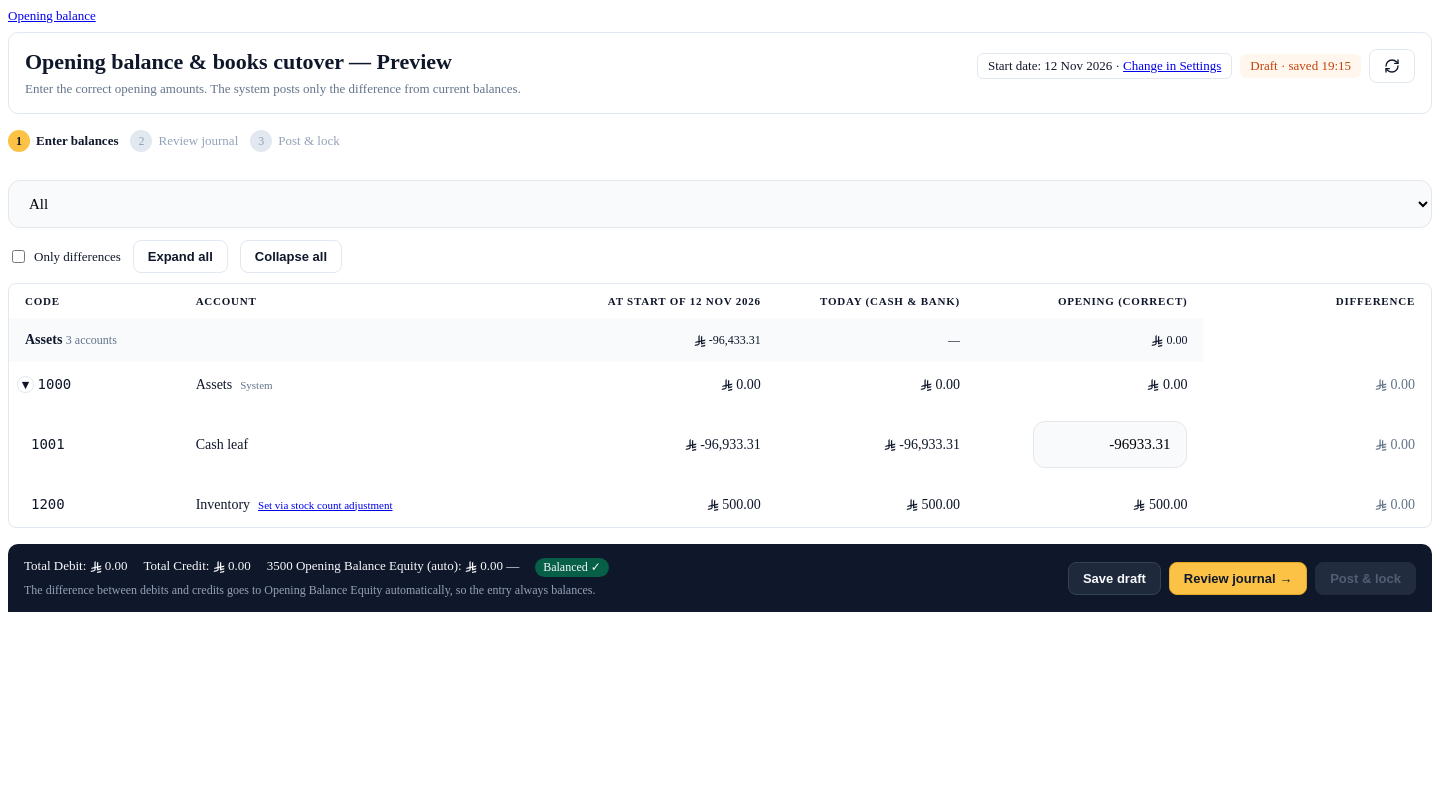
Test case: WorkshopOpeningBalancePage review popup › 3a: survives autosave — popup stays; workspace GET still 1
Expected: the button "Review journal →" is shown, [1169,562,1307,594]
Clear the field named "1001 opening". click: (1110, 444)
box: [1034,421,1188,468]
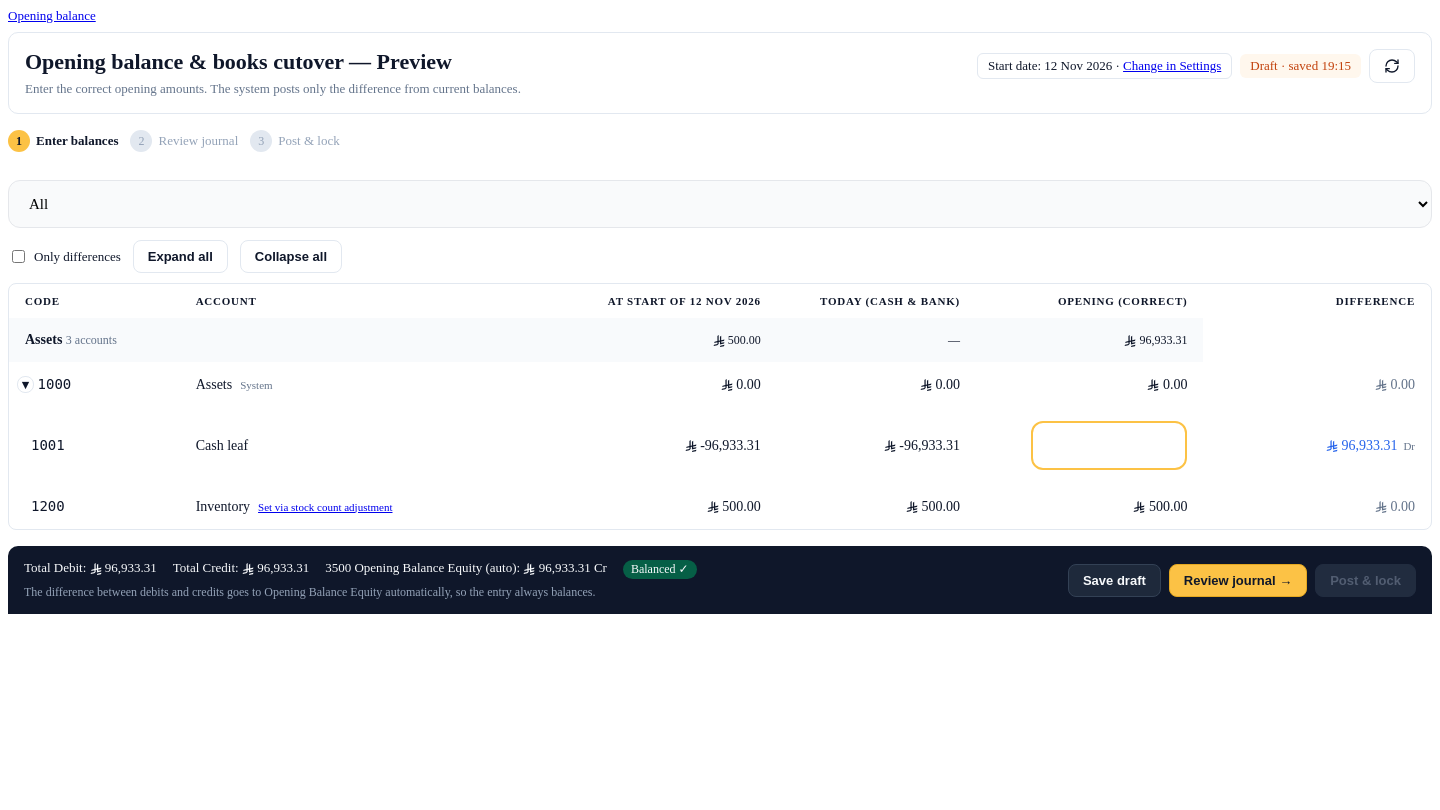
Type "-90000.00" into the field named "1001 opening". click: (1110, 446)
box: [1032,421,1188,470]
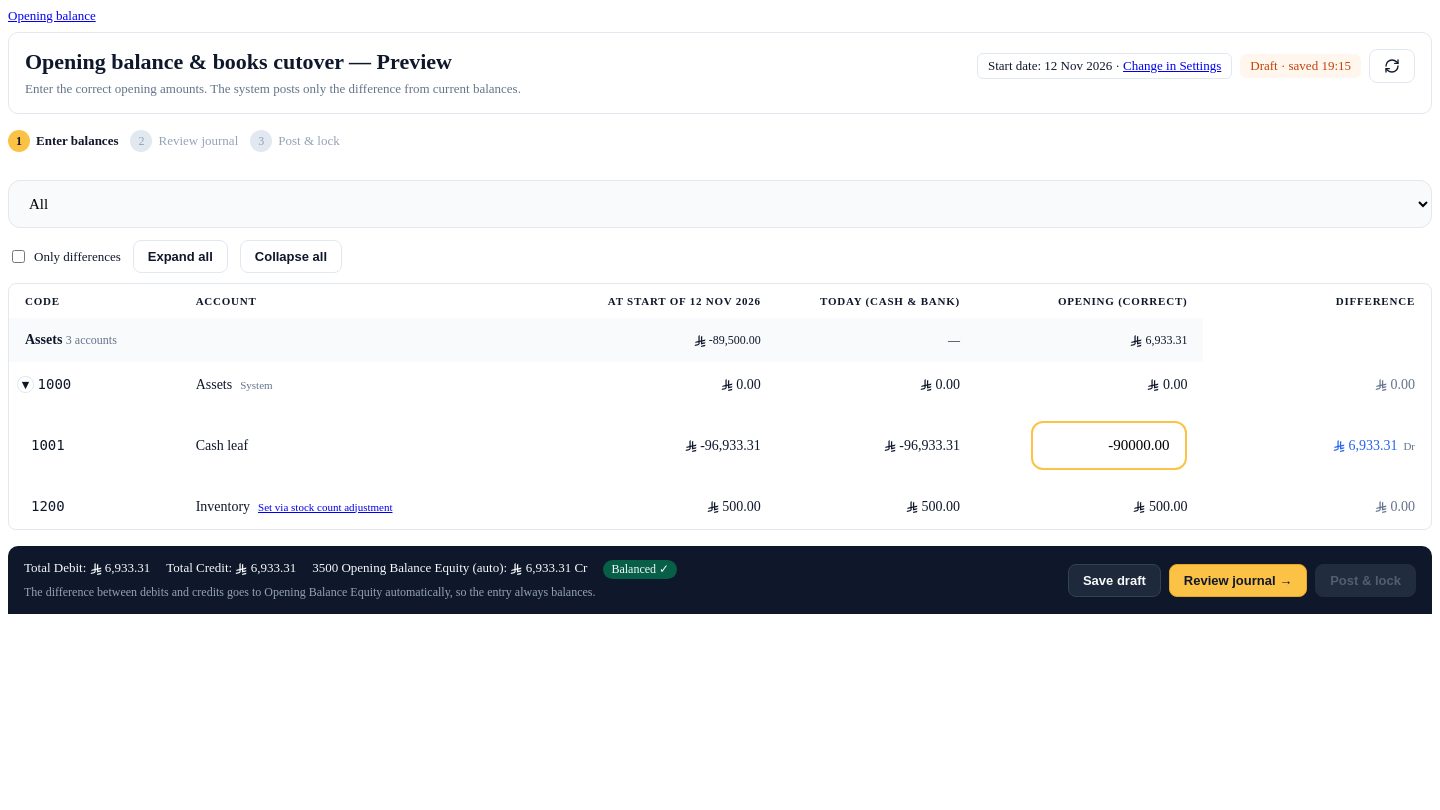
Click the button "Review journal →". click: (1238, 580)
box: [1169,564,1307,596]
Wait 61000 ms
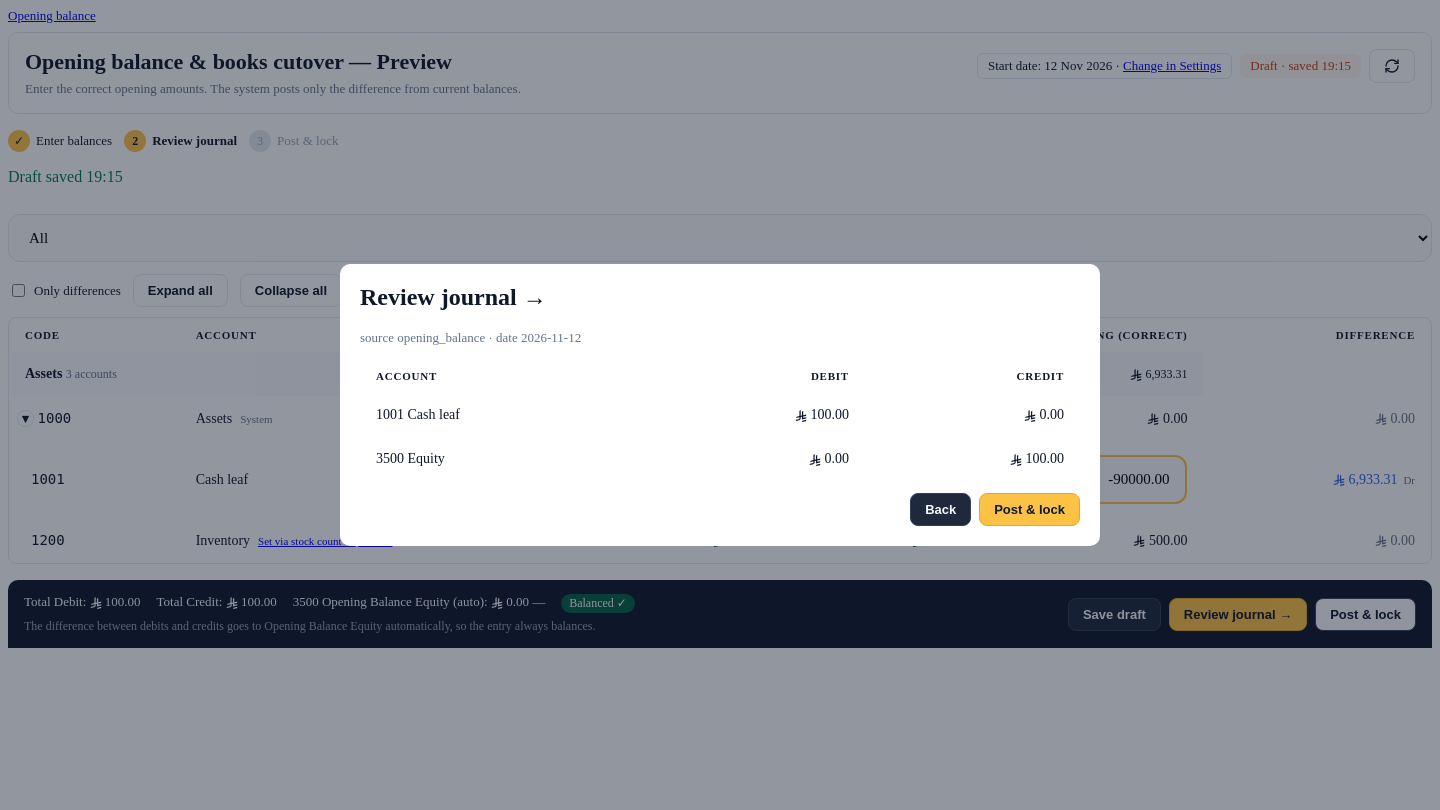
Expected: the dialog is shown
